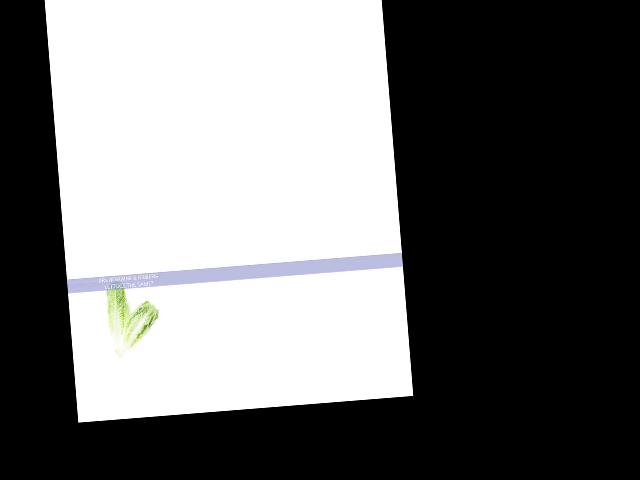lettuce: (108, 295, 160, 358)
